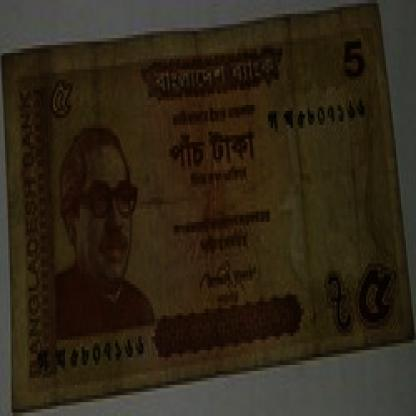Five Taka: (356, 260, 398, 340), (42, 66, 82, 128), (338, 24, 368, 90)
